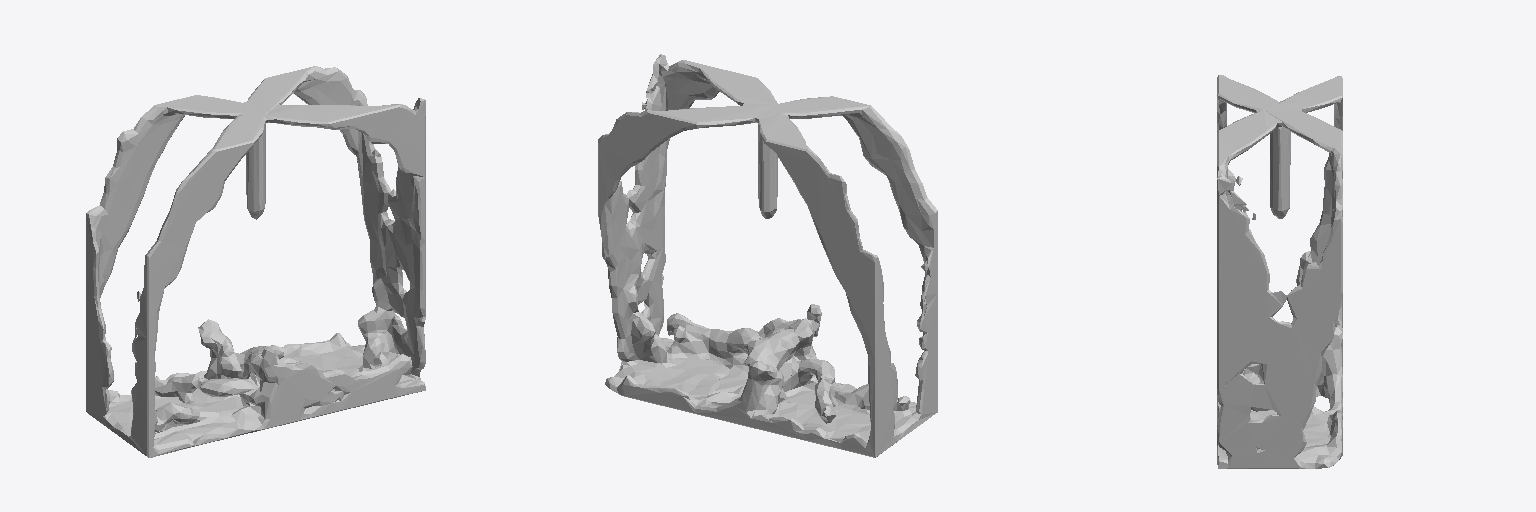
3 renders of one model, left to right at view 1: azimuth 30°, elevation 25°; view 2: azimuth 150°, elevation 25°; view 3: azimuth 270°, elevation 25°, orthographic.
Parts seen in each view (by area): view 1: Liquid_Domain; view 2: Liquid_Domain; view 3: Liquid_Domain.
Boxes of the visible parts, <box> form: Liquid_Domain: <box>86,66,425,457</box>; Liquid_Domain: <box>598,54,937,457</box>; Liquid_Domain: <box>1217,75,1342,468</box>.
Bounding box in the file's own units: 884 × 885 × 345.